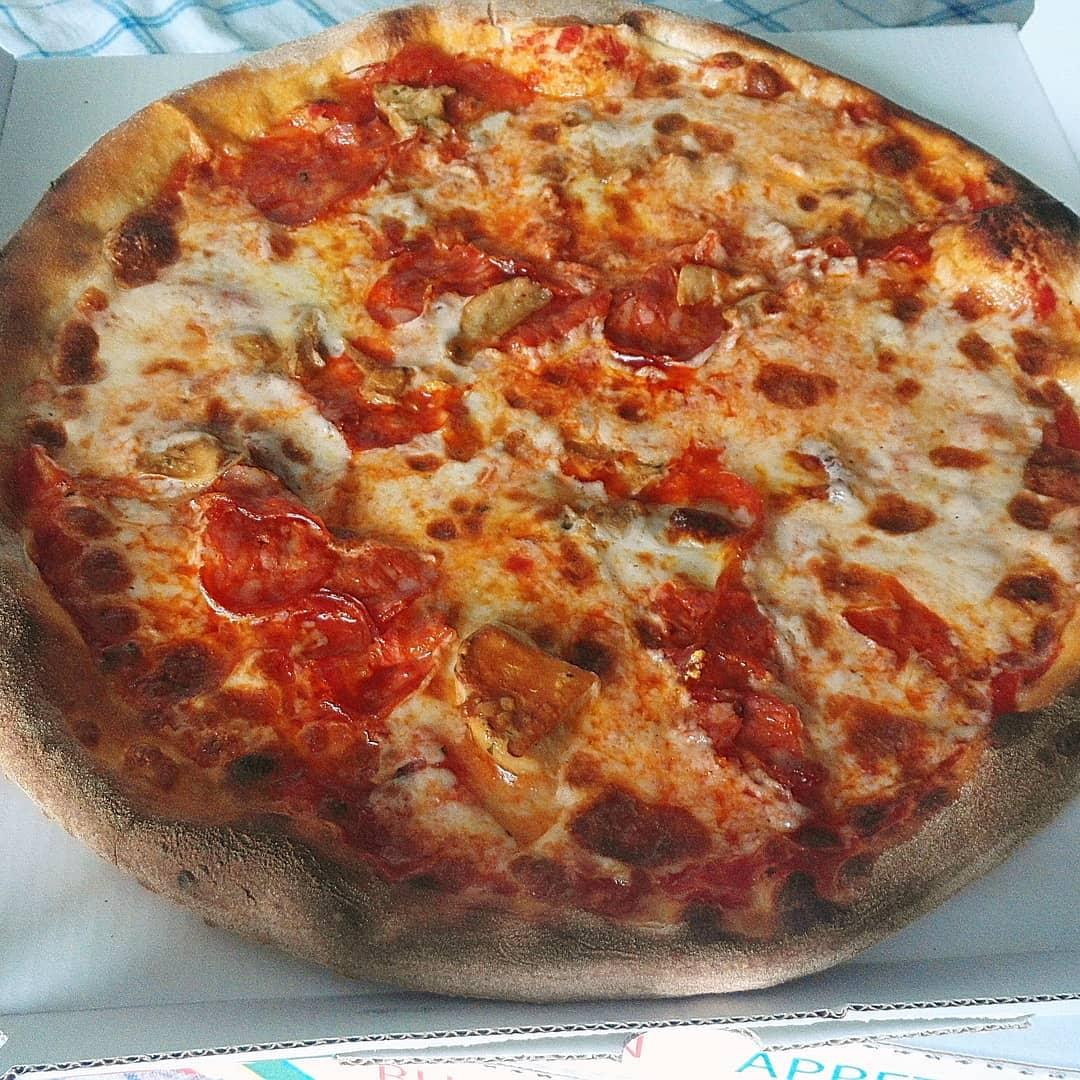Cheese: (813, 325, 1028, 566), (103, 243, 334, 438), (407, 409, 614, 533), (601, 117, 758, 221), (617, 359, 800, 446), (611, 633, 692, 817)
Chicken: (445, 629, 592, 736), (365, 233, 494, 313)
Mushroom: (371, 81, 461, 145), (461, 282, 550, 339)
Pepperoni: (203, 497, 337, 613), (833, 571, 961, 672), (663, 569, 768, 689), (601, 281, 740, 368), (247, 133, 384, 221), (703, 699, 818, 780)
Pizza: (0, 0, 1080, 1002)
Tomatoes: (221, 509, 411, 716), (641, 462, 757, 540)
